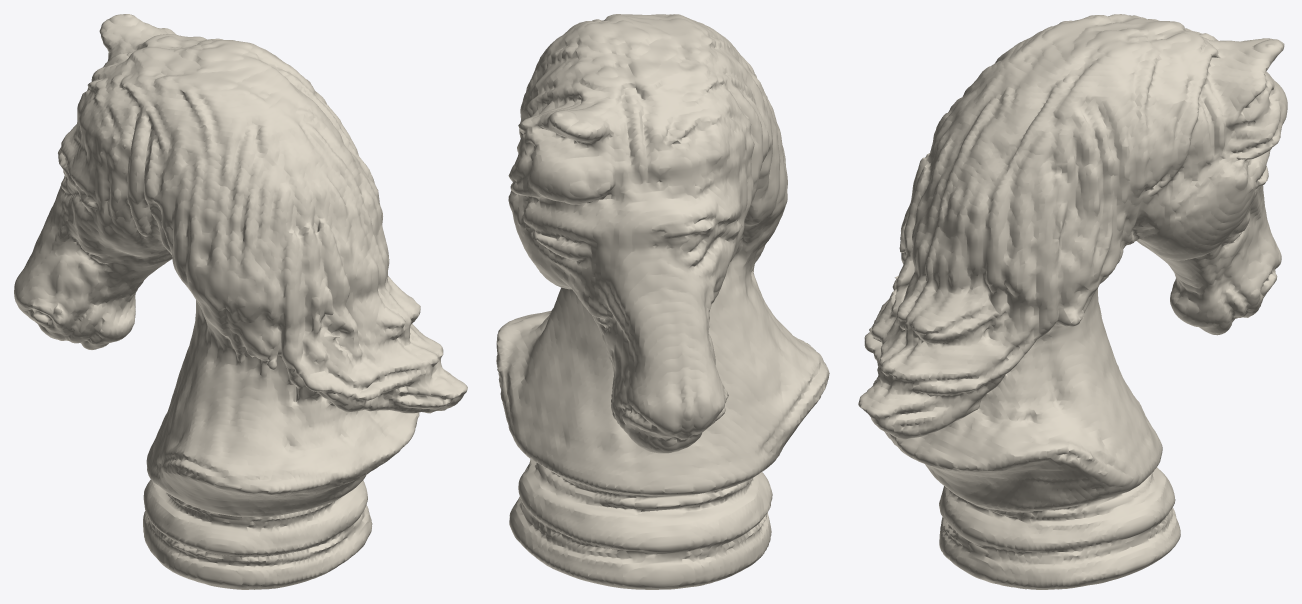
File: knight.glb
3 renders of one model, left to right at view 1: azimuth 30°, elevation 25°; view 2: azimuth 150°, elevation 25°; view 3: azimuth 270°, elevation 25°, orthographic. The views are drawn at different scales.
Visible parts, largest first — view 1: knight; view 2: knight; view 3: knight.
Part boxes in pixels (left/top/right/bottom): knight: left=14, top=14, right=467, bottom=589; knight: left=496, top=14, right=829, bottom=589; knight: left=858, top=14, right=1287, bottom=589.
Bounding box in the file's own units: 0.6326 × 1.02 × 0.7697.
